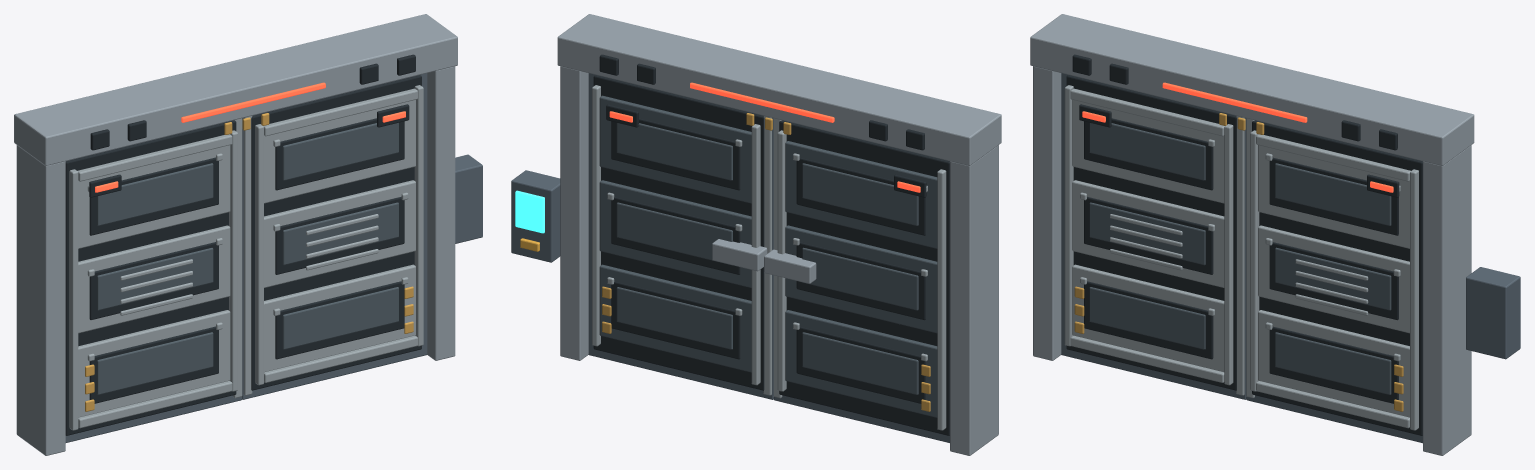
The model's file is SF_HeavySecurityDoor_GV.fbx.
3 renders of one model, left to right at view 1: azimuth 30°, elevation 25°; view 2: azimuth 150°, elevation 25°; view 3: azimuth 330°, elevation 25°, orthographic.
Visible parts, largest first — view 1: VU_LeftPanelRearArmour, VU_RightPanelRearArmour, Header, FrameLeft, FrameRight, PanelCore.001, VU_Seam.001, AccessTerminal, PanelCore, VU_Seam, VU_HeaderStatus.001; view 2: VU_LeftPanelFrontArmour, VU_RightPanelFrontArmour, Header, FrameLeft, FrameRight, PanelCore.001, AccessTerminal, VU_Seam.001, PanelCore, VU_Seam, RightBolt, LeftBolt (+2 smaller); view 3: VU_RightPanelRearArmour, VU_LeftPanelRearArmour, Header, FrameRight, FrameLeft, AccessTerminal, PanelCore, VU_Seam, PanelCore.001, VU_Seam.001, VU_HeaderStatus.001.
Boxes of the visible parts, x1,y1,x2,y2 form: VU_LeftPanelRearArmour: [65, 120, 237, 435]; VU_RightPanelRearArmour: [251, 75, 423, 390]; Header: [14, 14, 457, 165]; FrameLeft: [16, 145, 65, 455]; FrameRight: [427, 66, 455, 360]; PanelCore.001: [242, 73, 427, 399]; VU_Seam.001: [243, 116, 252, 395]; AccessTerminal: [455, 154, 482, 243]; PanelCore: [65, 120, 241, 442]; VU_Seam: [233, 118, 242, 398]; VU_HeaderStatus.001: [181, 82, 325, 122]; VU_LeftPanelFrontArmour: [777, 120, 949, 435]; VU_RightPanelFrontArmour: [592, 75, 764, 390]; Header: [557, 14, 1001, 165]; FrameLeft: [950, 145, 998, 455]; FrameRight: [560, 66, 588, 360]; PanelCore.001: [588, 73, 773, 399]; AccessTerminal: [511, 170, 560, 262]; VU_Seam.001: [763, 116, 771, 395]; PanelCore: [773, 120, 949, 442]; VU_Seam: [773, 118, 782, 398]; RightBolt: [712, 239, 767, 271]; LeftBolt: [764, 249, 816, 283]; VU_RightPanelRearArmour: [1250, 120, 1422, 435]; VU_LeftPanelRearArmour: [1064, 75, 1236, 390]; Header: [1030, 14, 1474, 165]; FrameRight: [1423, 145, 1471, 455]; FrameLeft: [1033, 66, 1061, 360]; AccessTerminal: [1466, 267, 1520, 359]; PanelCore: [1061, 73, 1246, 399]; VU_Seam: [1236, 115, 1244, 395]; PanelCore.001: [1246, 120, 1422, 443]; VU_Seam.001: [1246, 118, 1254, 397]; VU_HeaderStatus.001: [1162, 82, 1307, 122].
Size of the model in its own units: 492 by 330 by 72.5.
